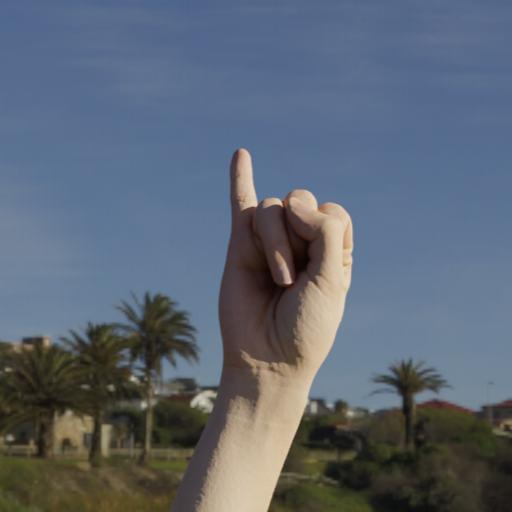I: (207, 140, 365, 411)
